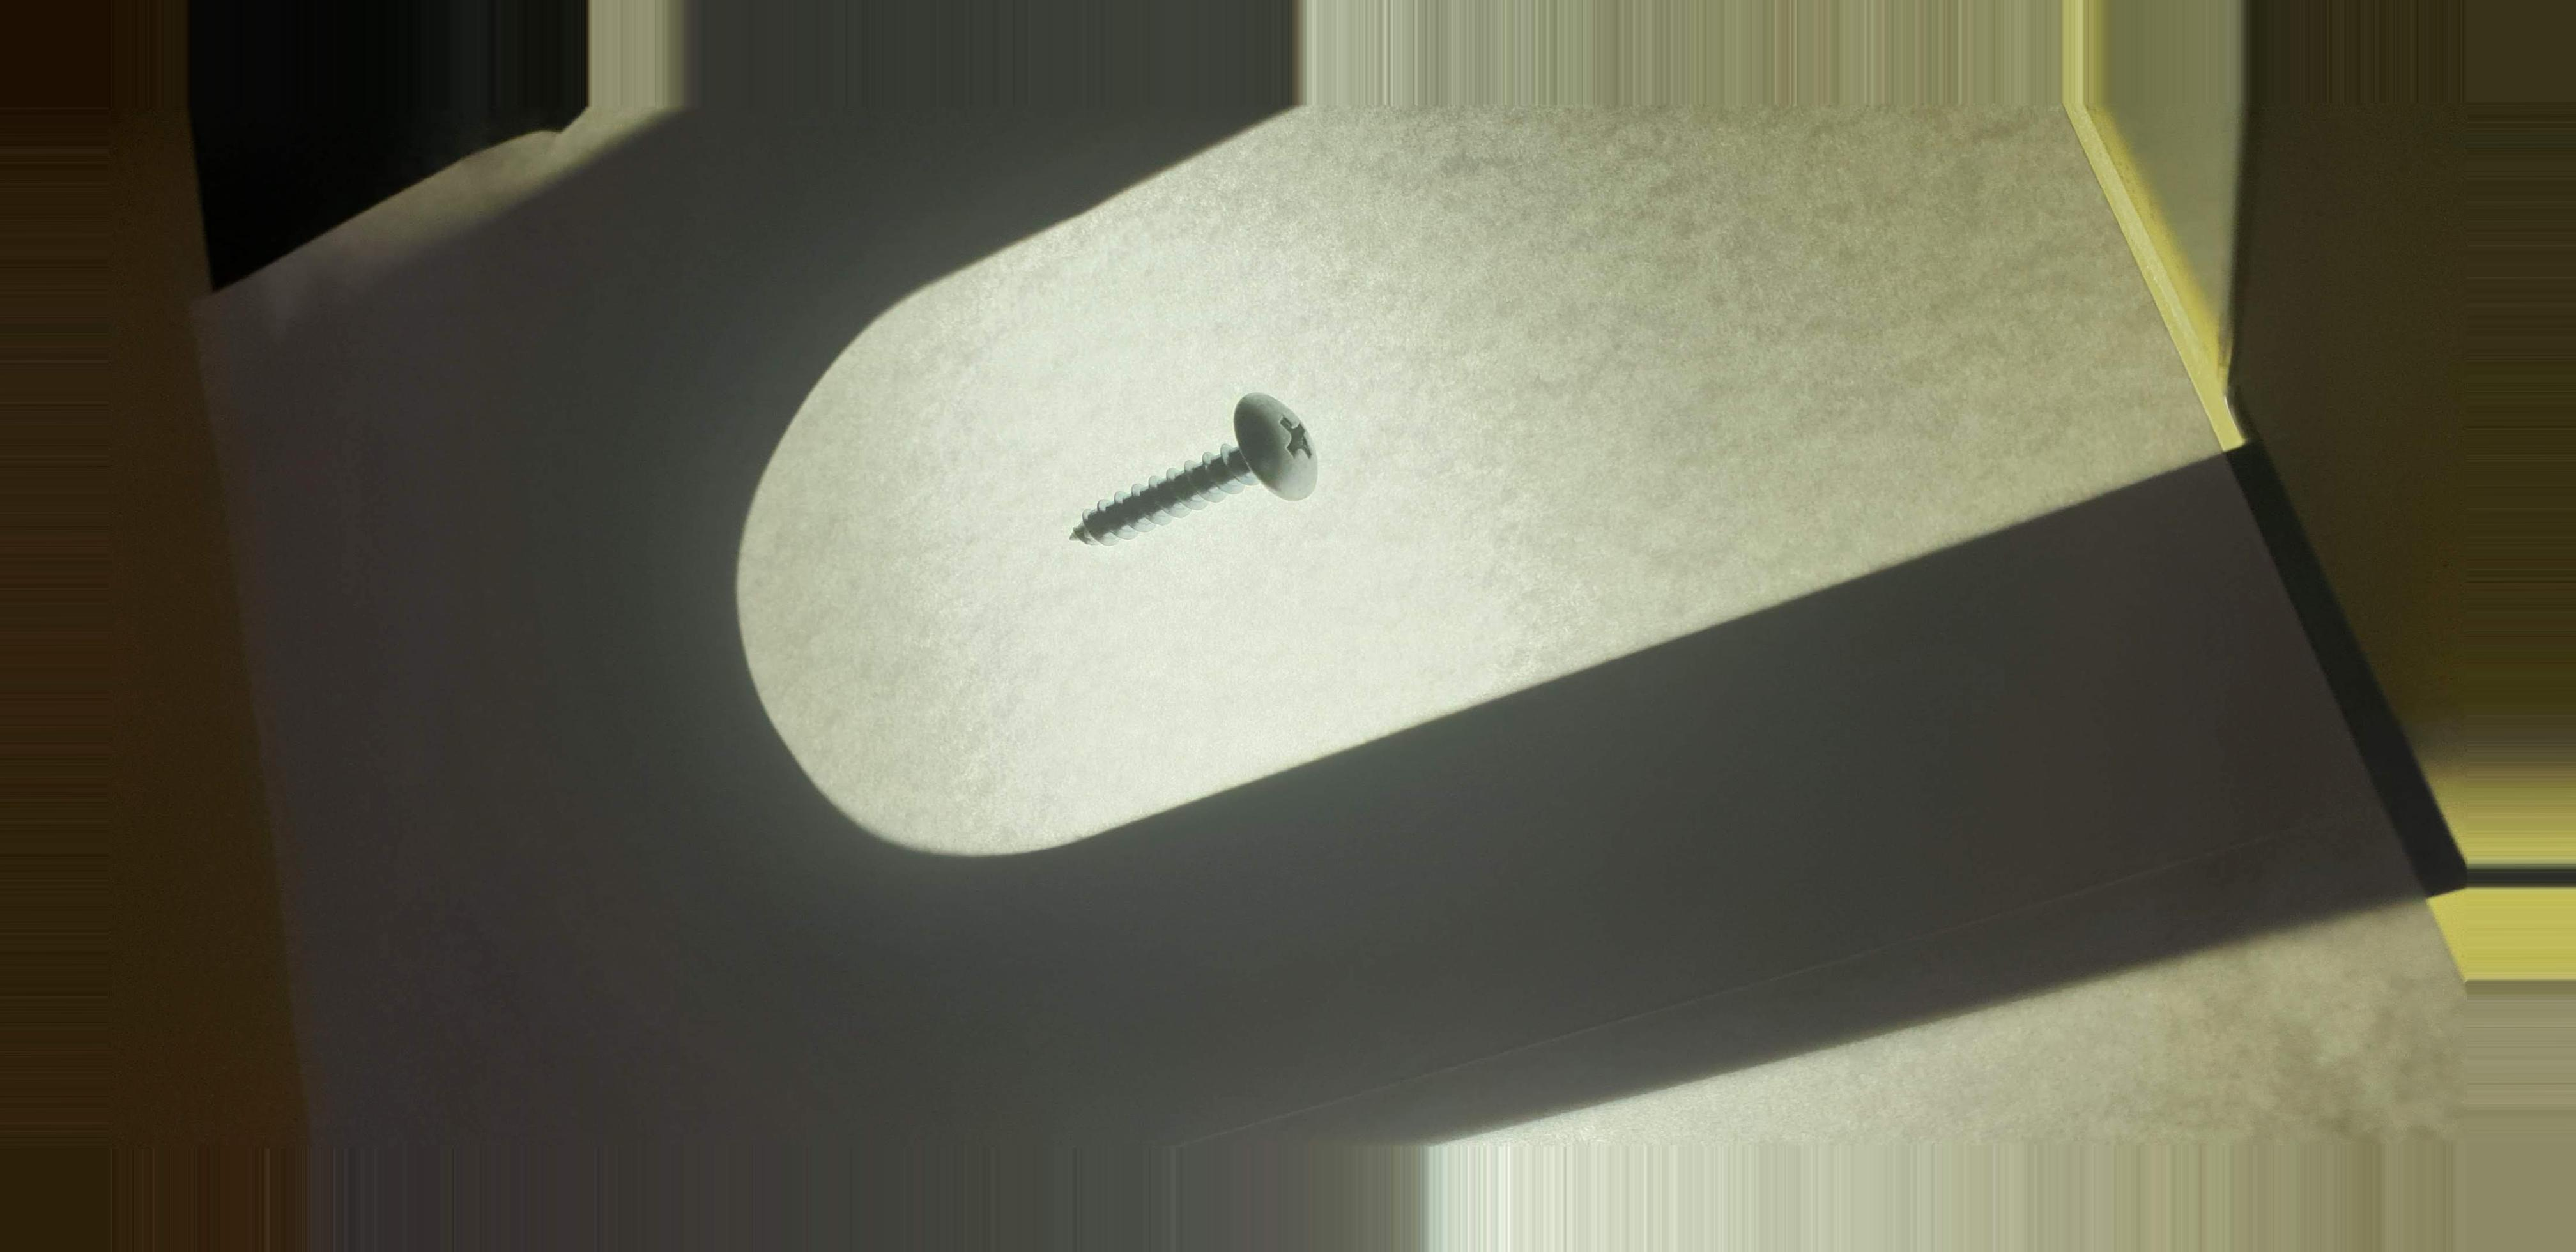S002: (1032, 357, 1354, 590)
